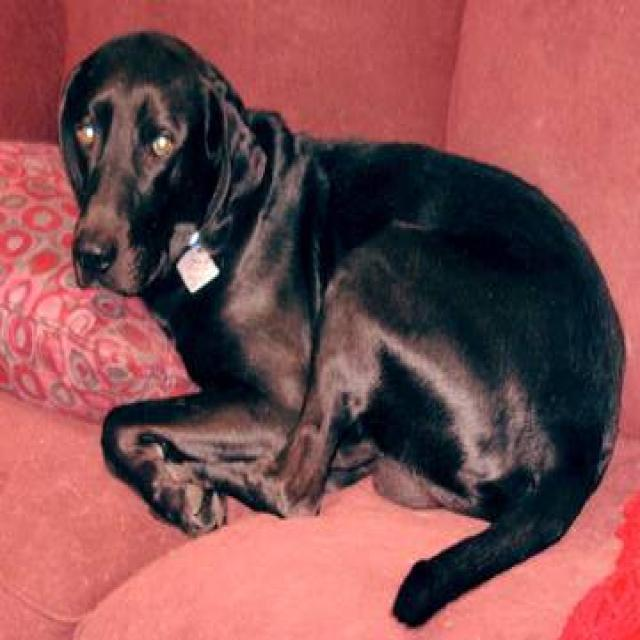dogs: (49, 34, 625, 615)
